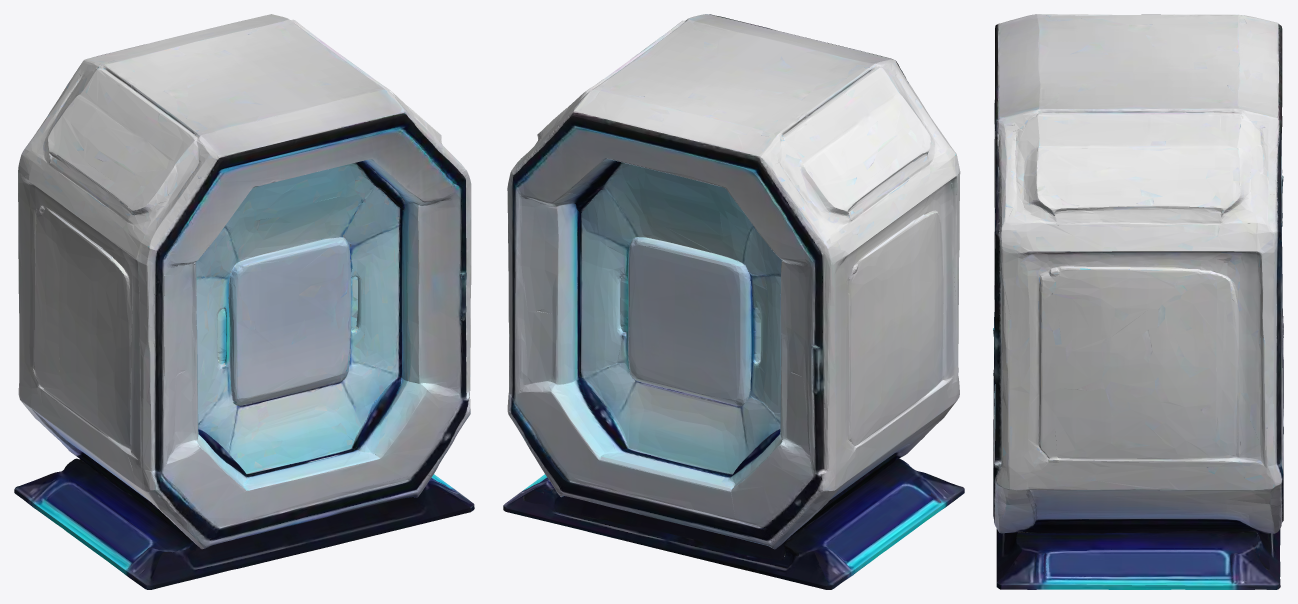
File: prop_training_barrier.fbx
The picture shows the model from 3 angles, left to right: view 1: azimuth 30°, elevation 25°; view 2: azimuth 150°, elevation 25°; view 3: azimuth 270°, elevation 25°; orthographic projection. The views are drawn at different scales.
Visible parts, largest first — view 1: geometry_0; view 2: geometry_0; view 3: geometry_0.
Boxes of the visible parts, bbox=[...] form: geometry_0: bbox=[14, 14, 474, 589]; geometry_0: bbox=[503, 14, 964, 589]; geometry_0: bbox=[993, 14, 1283, 589].
Size of the model in its own units: 0.8227 by 0.9955 by 0.5902.
